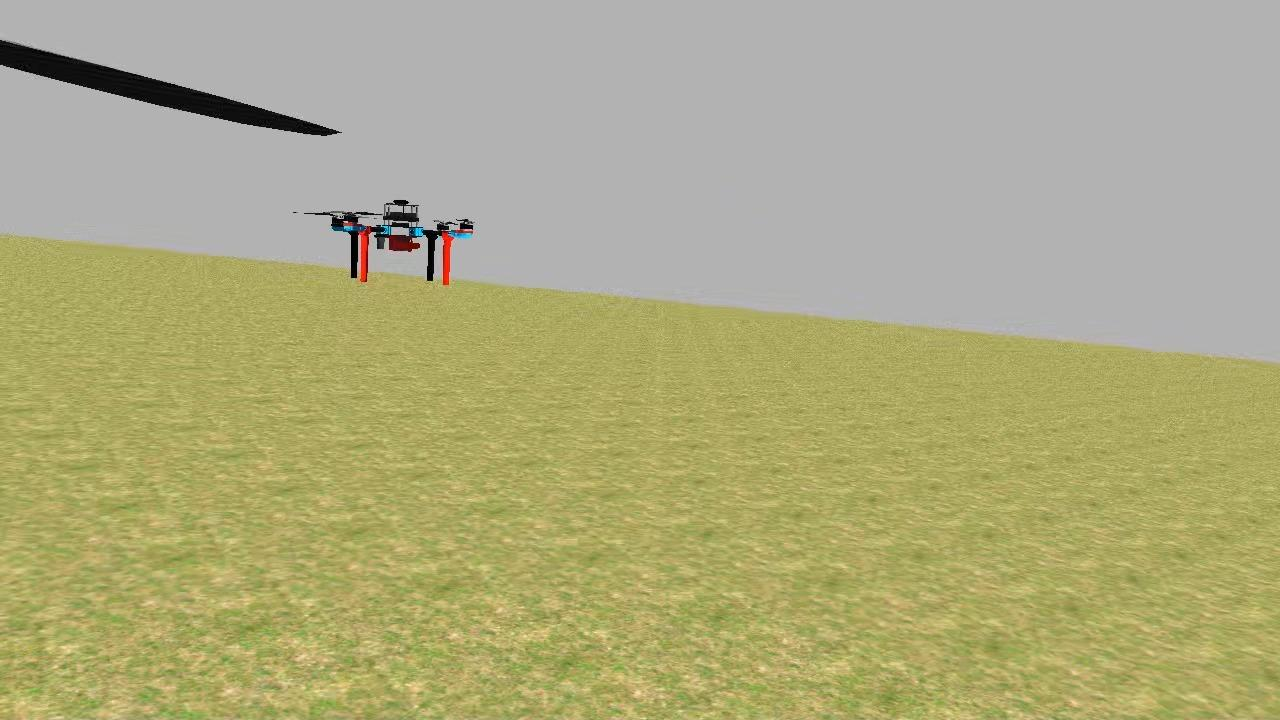UAV: (322, 192, 482, 297)
